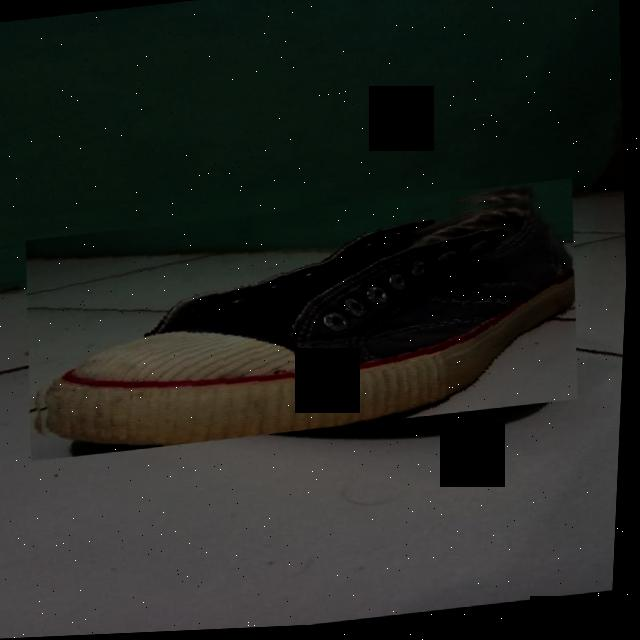shoe: (20, 183, 589, 462)
